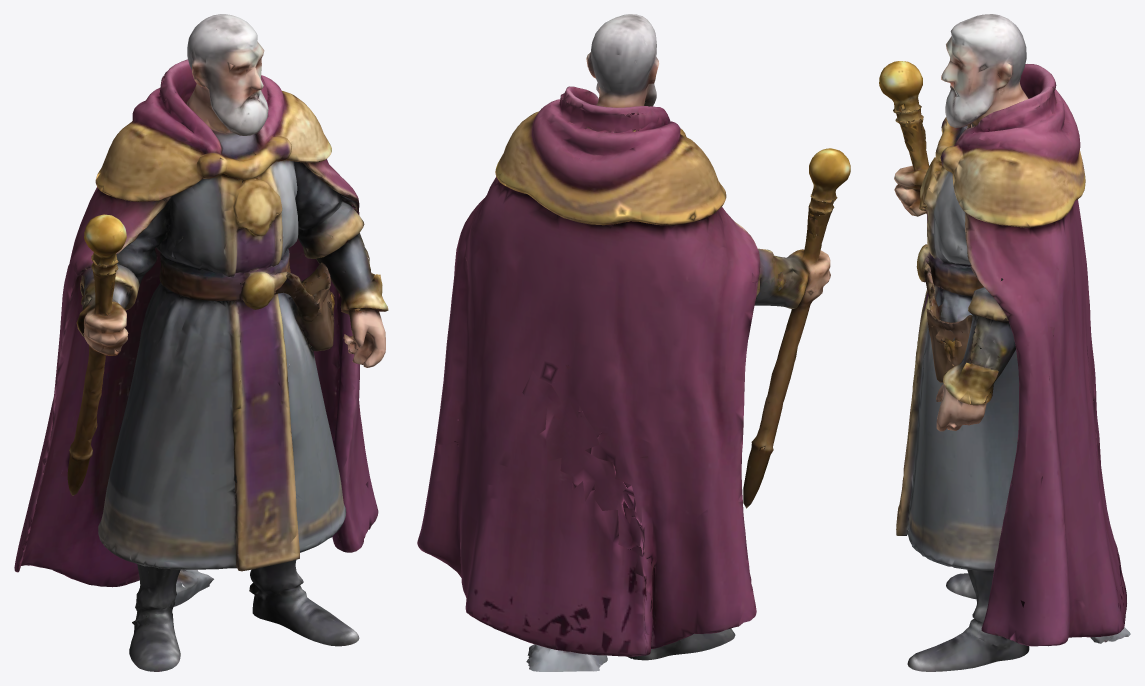
File: fig_npc_corvus.glb
The picture shows the model from 3 angles, left to right: view 1: azimuth 30°, elevation 25°; view 2: azimuth 150°, elevation 25°; view 3: azimuth 270°, elevation 25°; orthographic projection. The views are drawn at different scales.
Visible parts, largest first — view 1: geometry_0; view 2: geometry_0; view 3: geometry_0.
Part boxes in pixels (box(x1,y1,x2,y2)): geometry_0: box(14, 14, 388, 671); geometry_0: box(417, 14, 850, 671); geometry_0: box(879, 14, 1130, 671).
Size of the model in its own units: 0.5718 by 0.9321 by 0.3516.
1 material, 1 textured.
